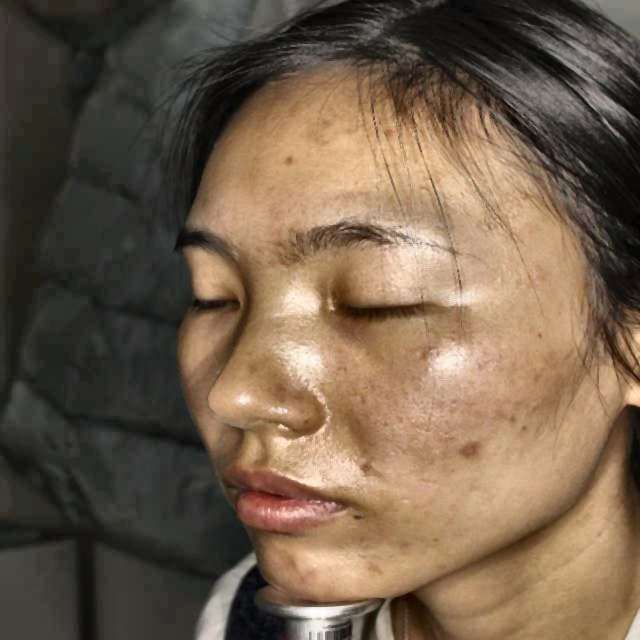comedone: (450, 431, 492, 469), (281, 546, 319, 587)
